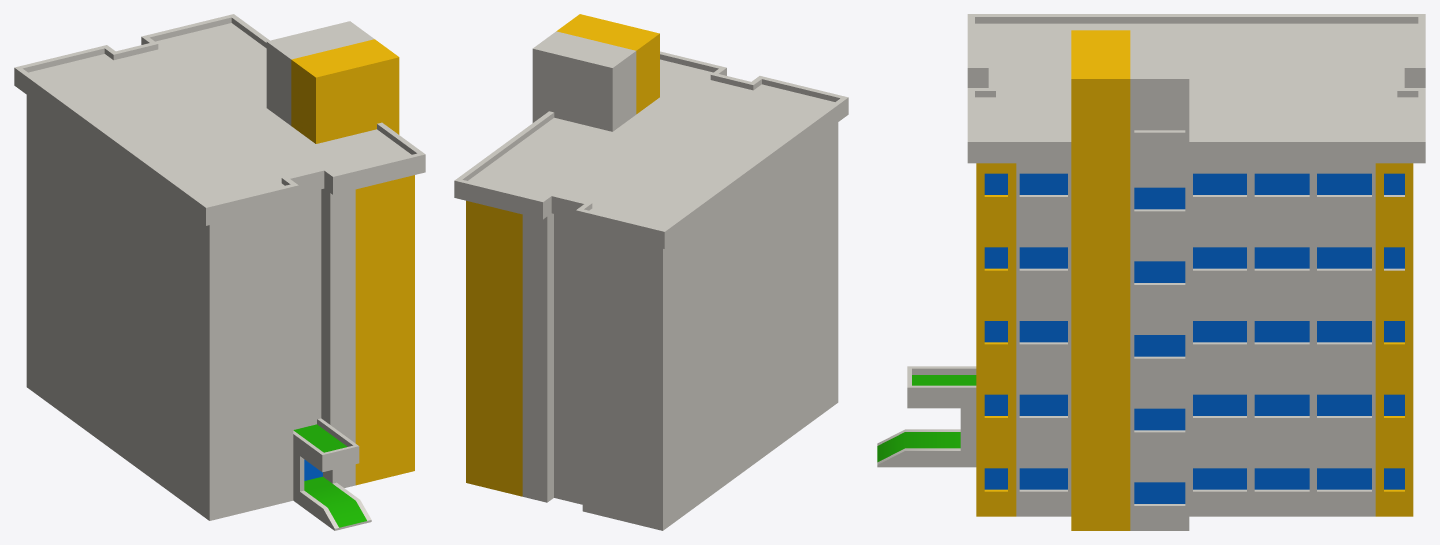
The model's file is 학생회관.fbx.
The picture shows the model from 3 angles, left to right: view 1: azimuth 30°, elevation 25°; view 2: azimuth 150°, elevation 25°; view 3: azimuth 270°, elevation 25°; orthographic projection. The views are drawn at different scales.
Visible parts, largest first — view 1: 학생회관_3, Cube_31; view 2: 학생회관_3, Cube_31; view 3: 학생회관_3, Cube_31, Cube_53, Cube_56.
Part boxes in pixels (left/top/right/bottom): 학생회관_3: left=26, top=21, right=414, bottom=530; Cube_31: left=14, top=14, right=425, bottom=225; 학생회관_3: left=466, top=14, right=838, bottom=530; Cube_31: left=454, top=51, right=848, bottom=248; 학생회관_3: left=877, top=30, right=1413, bottom=530; Cube_31: left=967, top=14, right=1425, bottom=163; Cube_53: left=984, top=173, right=1404, bottom=489; Cube_56: left=1134, top=187, right=1185, bottom=503.
Size of the model in its own units: 317 by 485 by 533.
